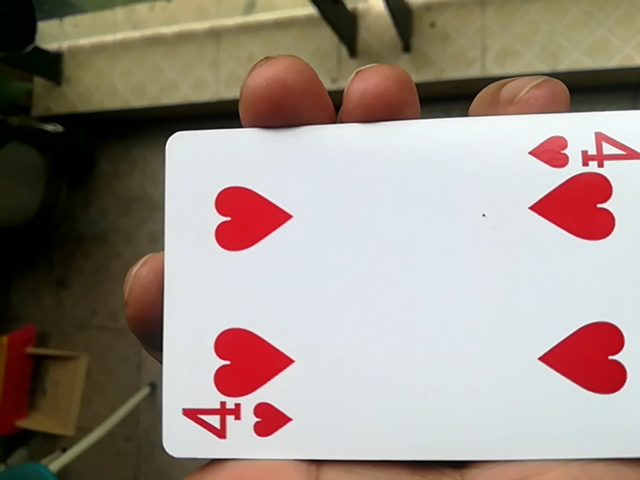hx 4: (157, 106, 638, 474)
